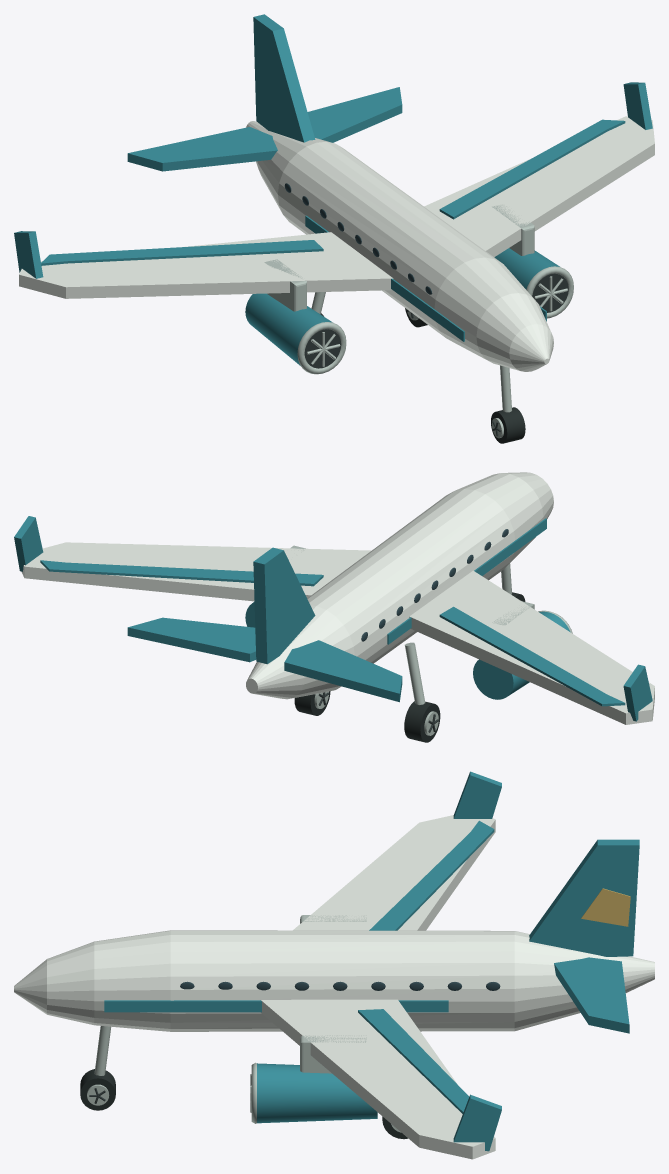
File: airplane.glb
3 views of the same model, one above another, from view 1: azimuth 30°, elevation 25°; view 2: azimuth 150°, elevation 25°; view 3: azimuth 270°, elevation 25° (orthographic). The views are drawn at different scales.
Parts seen in each view (by area): view 1: fuselage_ivory, wings_ivory, tailplanes_teal, wing_stripe_teal, tail_fin_teal, engines_teal, winglets_teal, engine_pylons_chrome, engine_intakes_chrome, engine_intakes_dark, livery_teal, wheels_rubber (+2 smaller); view 2: fuselage_ivory, wings_ivory, tailplanes_teal, wing_stripe_teal, tail_fin_teal, winglets_teal, engines_teal, wheels_rubber, livery_teal, landing_gear_chrome, cabin_windows_glass; view 3: fuselage_ivory, wings_ivory, tail_fin_teal, wing_stripe_teal, engines_teal, tailplanes_teal, winglets_teal, livery_teal, tail_emblem_gold, engine_pylons_chrome, wheels_rubber, cabin_windows_glass (+1 smaller).
Boxes of the visible parts, left/top/right/bottom form: fuselage_ivory: left=246, top=121, right=553, bottom=371; wings_ivory: left=19, top=116, right=654, bottom=298; tailplanes_teal: left=127, top=87, right=402, bottom=171; wing_stripe_teal: left=41, top=119, right=625, bottom=265; tail_fin_teal: left=253, top=14, right=315, bottom=142; engines_teal: left=245, top=248, right=559, bottom=365; winglets_teal: left=14, top=82, right=652, bottom=278; engine_pylons_chrome: left=264, top=204, right=534, bottom=311; engine_intakes_chrome: left=297, top=266, right=573, bottom=374; engine_intakes_dark: left=304, top=273, right=568, bottom=368; livery_teal: left=305, top=215, right=546, bottom=341; wheels_rubber: left=320, top=308, right=525, bottom=443; fuselage_ivory: left=246, top=472, right=553, bottom=699; wings_ivory: left=21, top=542, right=654, bottom=724; tailplanes_teal: left=127, top=617, right=402, bottom=702; wing_stripe_teal: left=40, top=560, right=625, bottom=706; tail_fin_teal: left=253, top=547, right=315, bottom=664; winglets_teal: left=14, top=516, right=652, bottom=721; engines_teal: left=245, top=601, right=570, bottom=699; wheels_rubber: left=294, top=592, right=525, bottom=742; livery_teal: left=387, top=518, right=546, bottom=644; landing_gear_chrome: left=404, top=563, right=511, bottom=704; cabin_windows_glass: left=361, top=529, right=508, bottom=641; fuselage_ivory: left=14, top=930, right=654, bottom=1031; wings_ivory: left=261, top=815, right=495, bottom=1159; tail_fin_teal: left=529, top=839, right=639, bottom=956; wing_stripe_teal: left=358, top=820, right=494, bottom=1113; engines_teal: left=257, top=1063, right=377, bottom=1123; tailplanes_teal: left=554, top=957, right=629, bottom=1033; winglets_teal: left=453, top=771, right=501, bottom=1151; livery_teal: left=104, top=1000, right=448, bottom=1012; tail_emblem_gold: left=581, top=888, right=630, bottom=926; engine_pylons_chrome: left=300, top=915, right=366, bottom=1073; wheels_rubber: left=80, top=1069, right=407, bottom=1139; cabin_windows_glass: left=180, top=981, right=500, bottom=990.
Bounding box in the file's own units: 2.4 × 0.8769 × 1.93.
